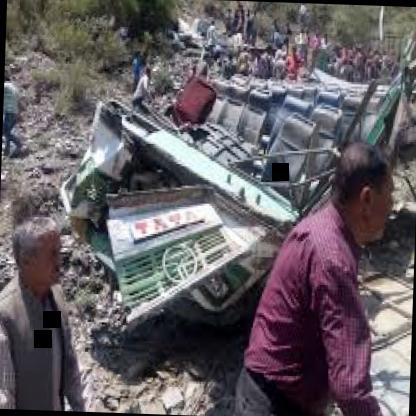accident: (66, 52, 415, 346)
